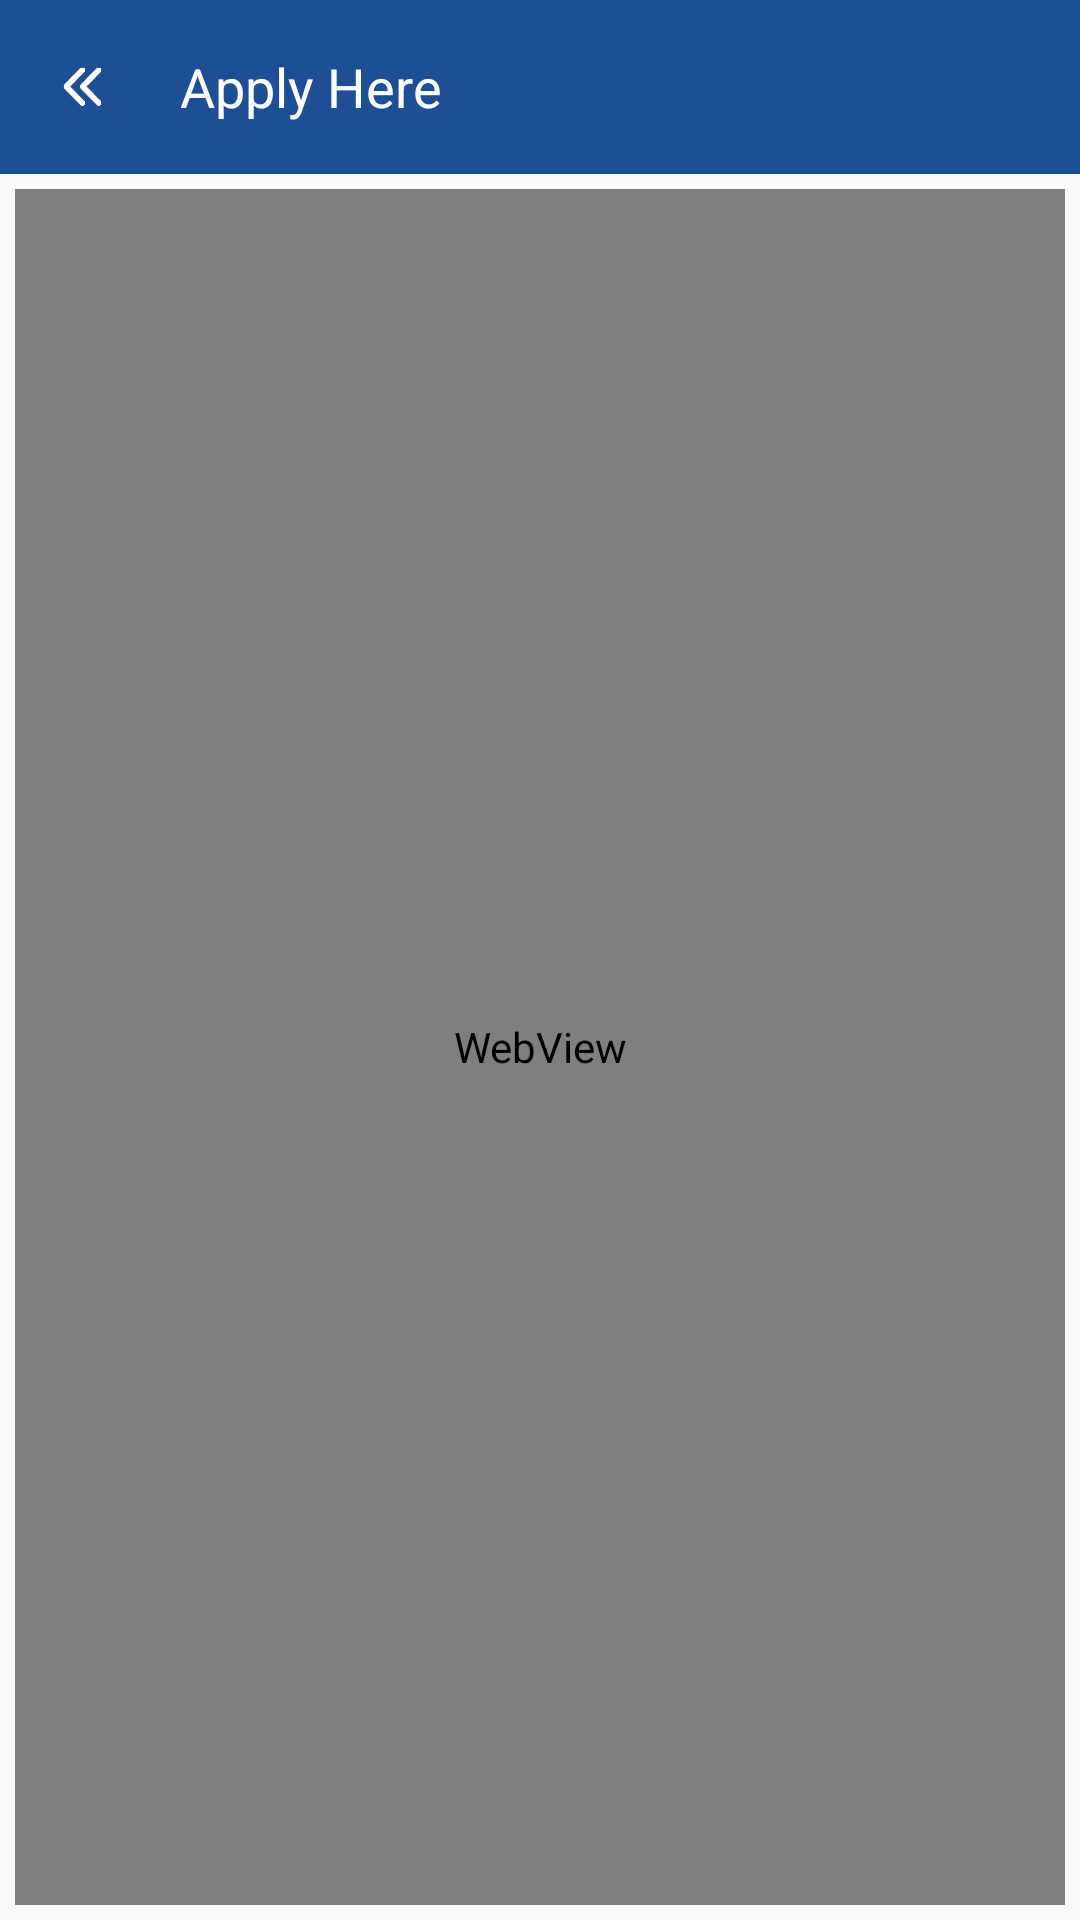

Where icons sit on this 1080w x 1920h app screen, as {"x1": x1, "y1": y1, "x2": x2, "y2": y2}:
arrow: {"x1": 64, "y1": 68, "x2": 101, "y2": 106}
